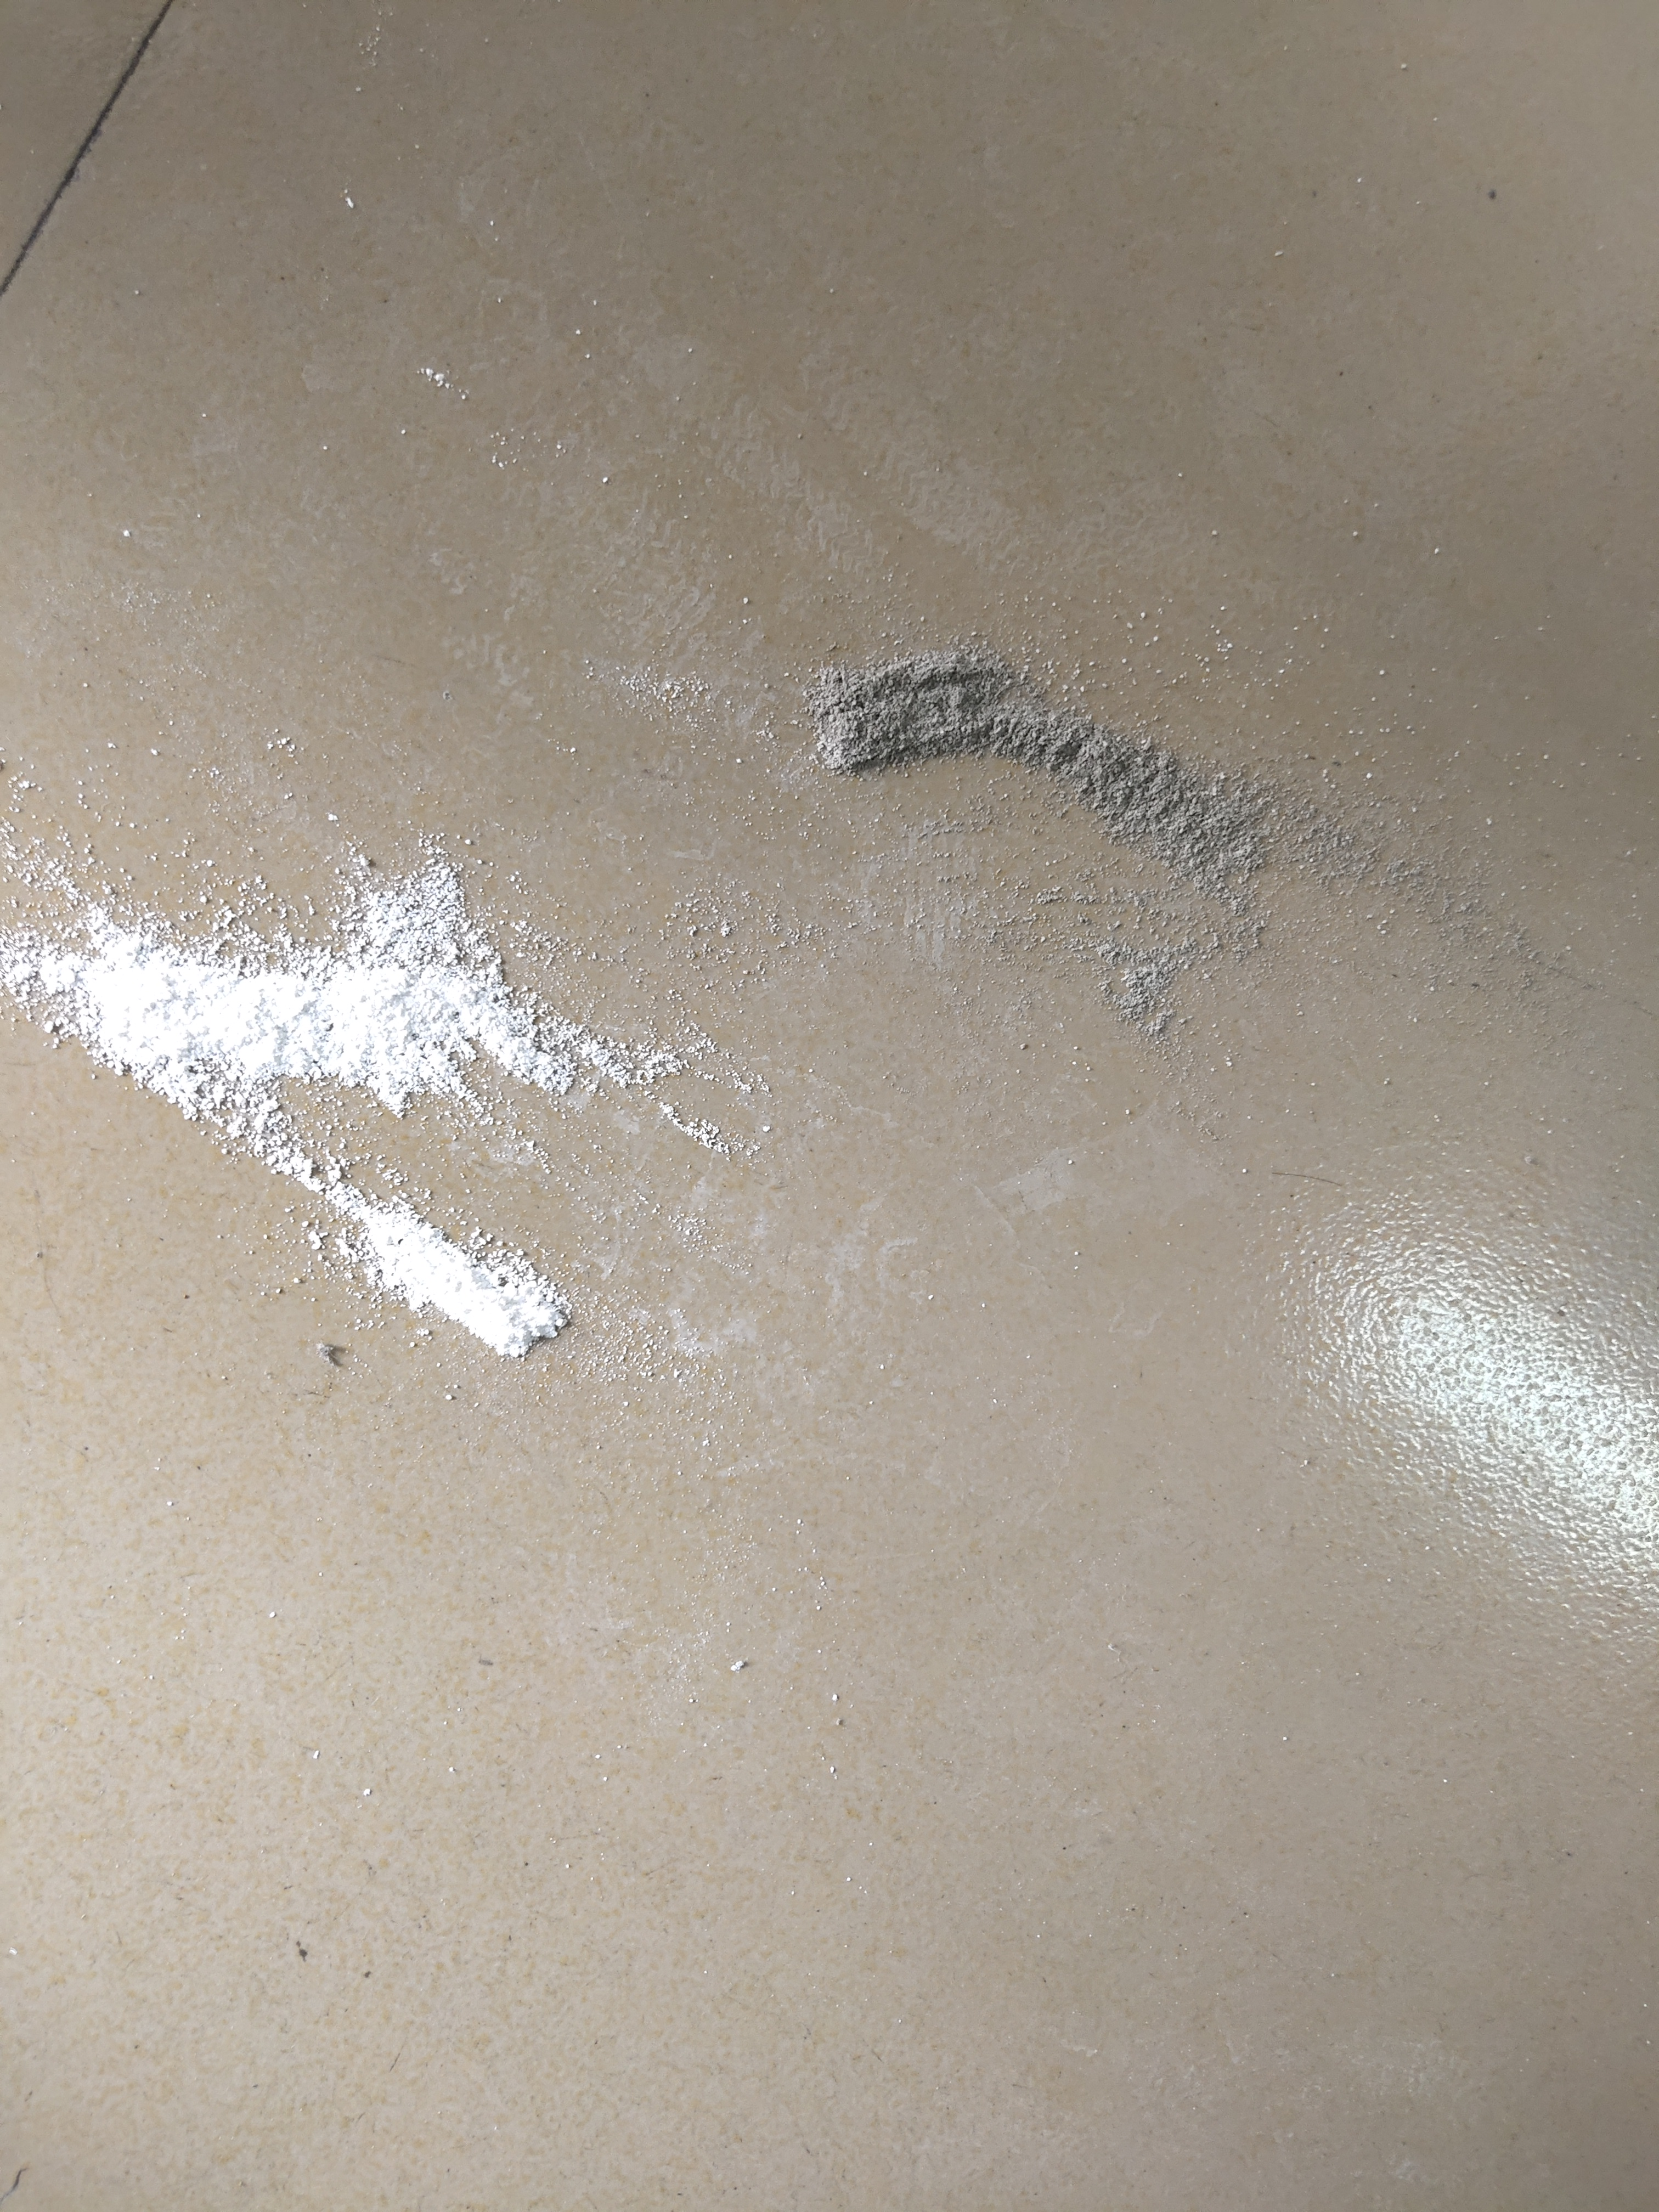ash pile: (0, 834, 775, 1360), (816, 653, 1588, 1042)
reflection: (1293, 1221, 1659, 1599)
